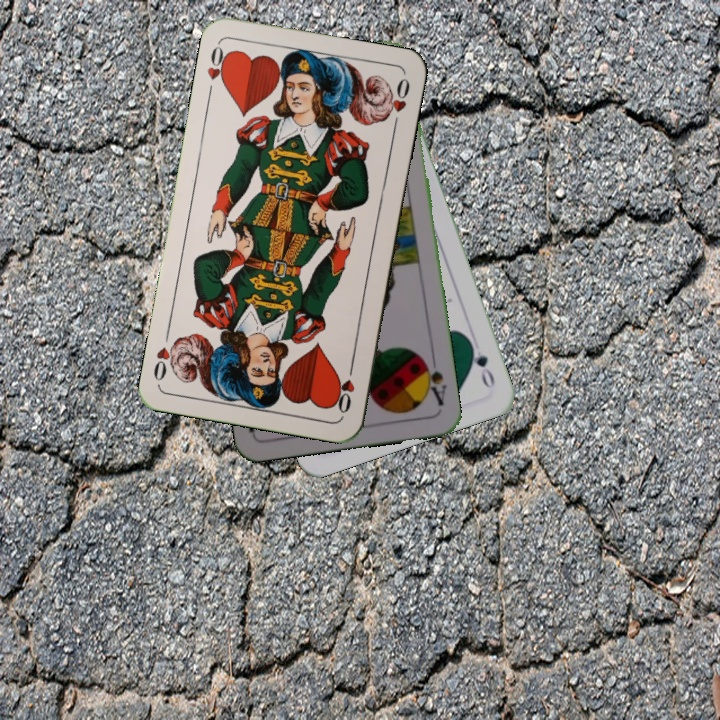GO: (464, 336, 498, 391)
HO: (203, 40, 233, 99), (331, 359, 358, 416)
SA: (418, 351, 449, 408)
